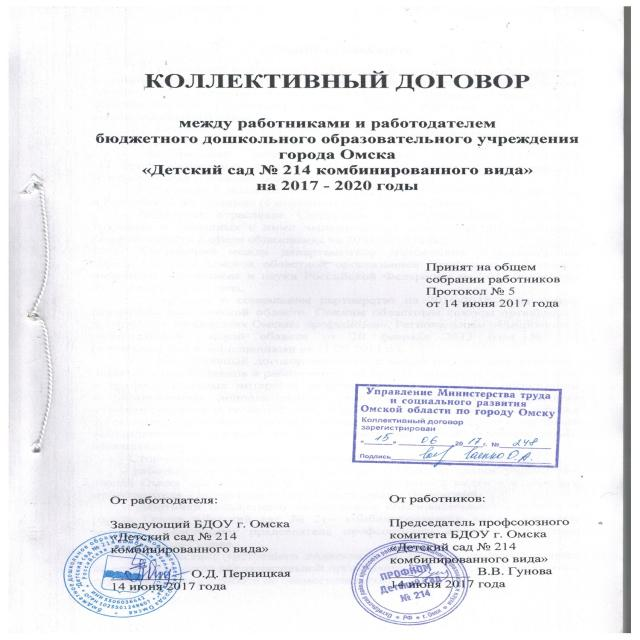stamps: (309, 360, 599, 479), (290, 493, 509, 640), (51, 501, 222, 622)
